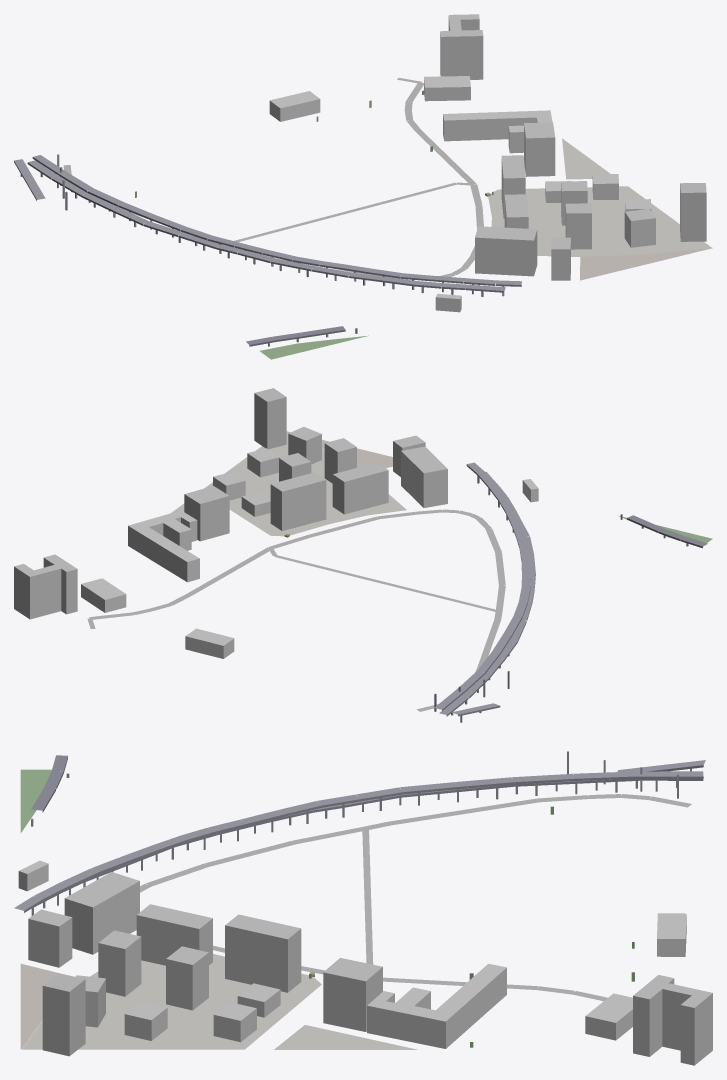
3 renders of one model, top to bottom at view 1: azimuth 30°, elevation 25°; view 2: azimuth 150°, elevation 25°; view 3: azimuth 270°, elevation 25°, orthographic. The views are drawn at different scales.
Bounding box in the file's own units: 534 × 63.31 × 519.
